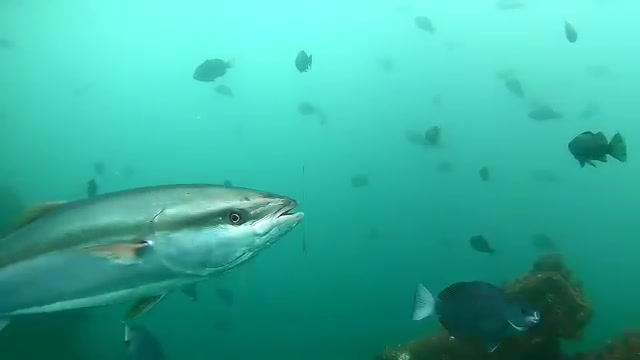hamati: (1, 151, 315, 338)
smallfish: (410, 275, 543, 356), (566, 119, 631, 170), (188, 54, 242, 89)
